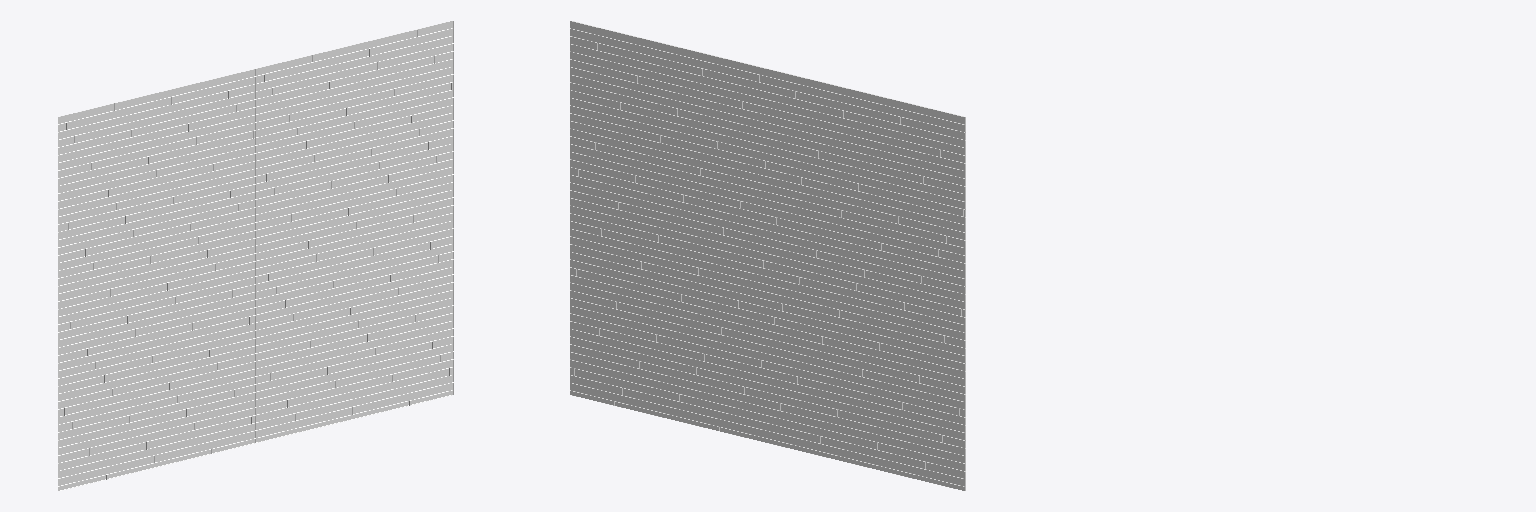
robot.urdf — floor1_too.urdf:
<?xml version="1.0" ?>
<robot name="floor1_too.urdf">
  <link name="baseLink">
    <inertial>
      <origin rpy="0 0 0" xyz="0 0 0"/>
      <mass value="0.0"/>
      <inertia ixx="0" ixy="0" ixz="0" iyy="0" iyz="0" izz="0"/>
    </inertial>
    
    <visual>
      <origin rpy="0 0 0" xyz="0 0 0"/>
      <geometry>
        <mesh filename="floor1_too.obj" scale="1.0 1.0 1.0"/>
      </geometry>
      <material name="white">
        <color rgba="1 1 1 1"/>
      </material>
    </visual>
    
    <collision concave="yes">
      <origin rpy="0 0 0" xyz="0 0 0"/>
      <geometry>
        <mesh filename="floor1_too.obj" scale="1.0 1.0 1.0"/>
      </geometry>
      <contact>
        <margin>0.0</margin>
      </contact>
    </collision>
  </link>
</robot>

--- Facts derived from the render (not from the file) ---
Views: 3 orthographic renders of the robot side by side, from view 1: azimuth 30°, elevation 25°; view 2: azimuth 150°, elevation 25°; view 3: azimuth 270°, elevation 25°.
Model floor1_too.urdf with 1 links and 0 joints (none), rooted at baseLink, posed all joints at 0.
Visible links, largest first — view 1: baseLink; view 2: baseLink; view 3: none.
Boxes of the visible links, box(x1,y1,x2,y2) form: baseLink: box(58, 21, 453, 490); baseLink: box(570, 21, 965, 490).
Size in the robot's own frame: 188 by 0.3145 by 170 metres.
1 mesh visuals loaded from 1 distinct referenced files (1 OBJ).
